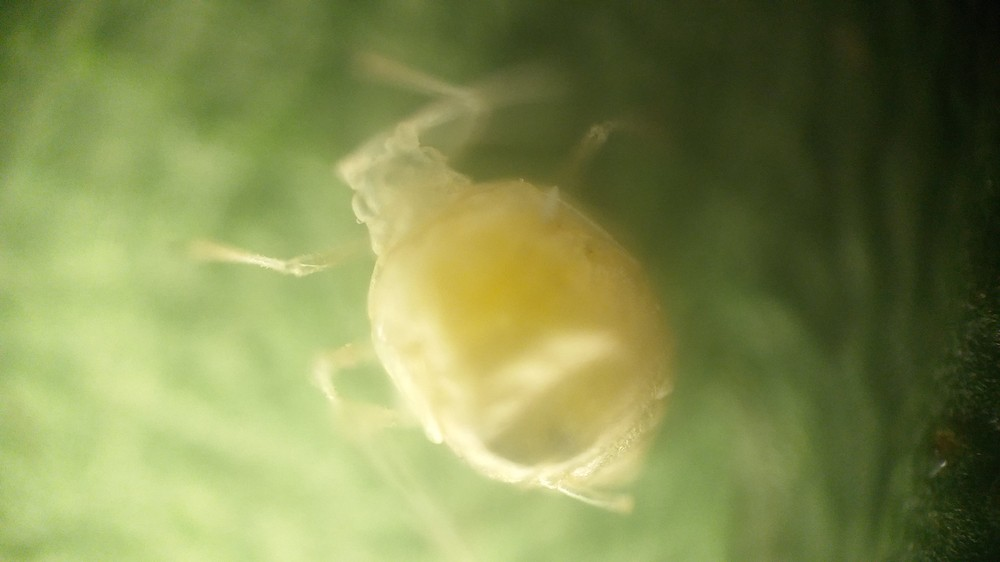Pulgon: (167, 51, 797, 556)
